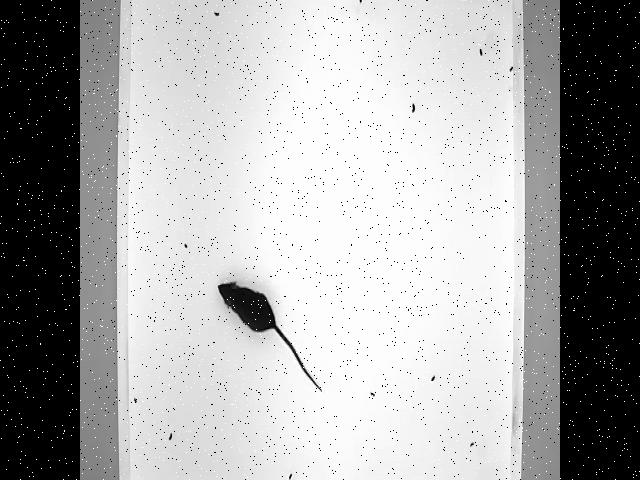Tikus: (211, 258, 326, 394)
